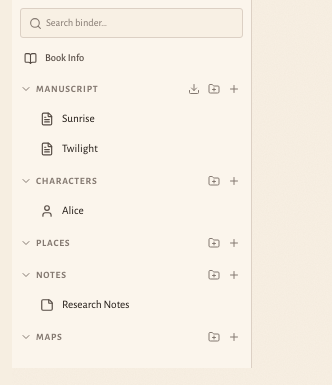
Binder › typing in the search box shows only matching nodes
Type "Sunrise" into the field with placeholder "Search binder…". click: (140, 23)
box: [46,9,234,37]
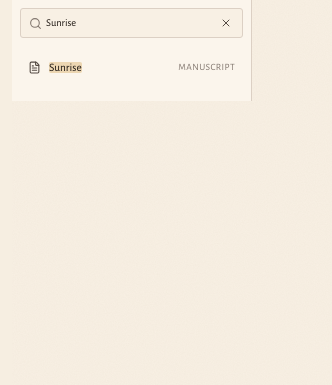
Expected: the text "Sunrise" is shown, [49,62,82,73]
Now the button "Twilight" is gone
Now the button "Alice" is gone
